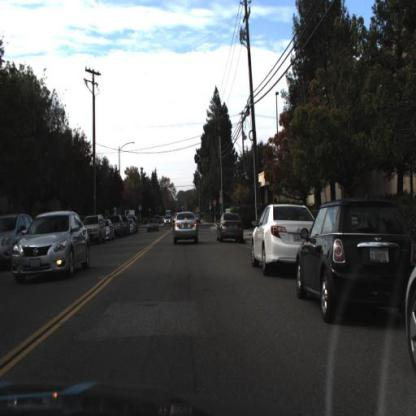car: (296, 200, 414, 328), (13, 212, 91, 286), (250, 201, 314, 274), (1, 209, 39, 269), (174, 212, 198, 245), (219, 214, 243, 243), (84, 214, 104, 245)
